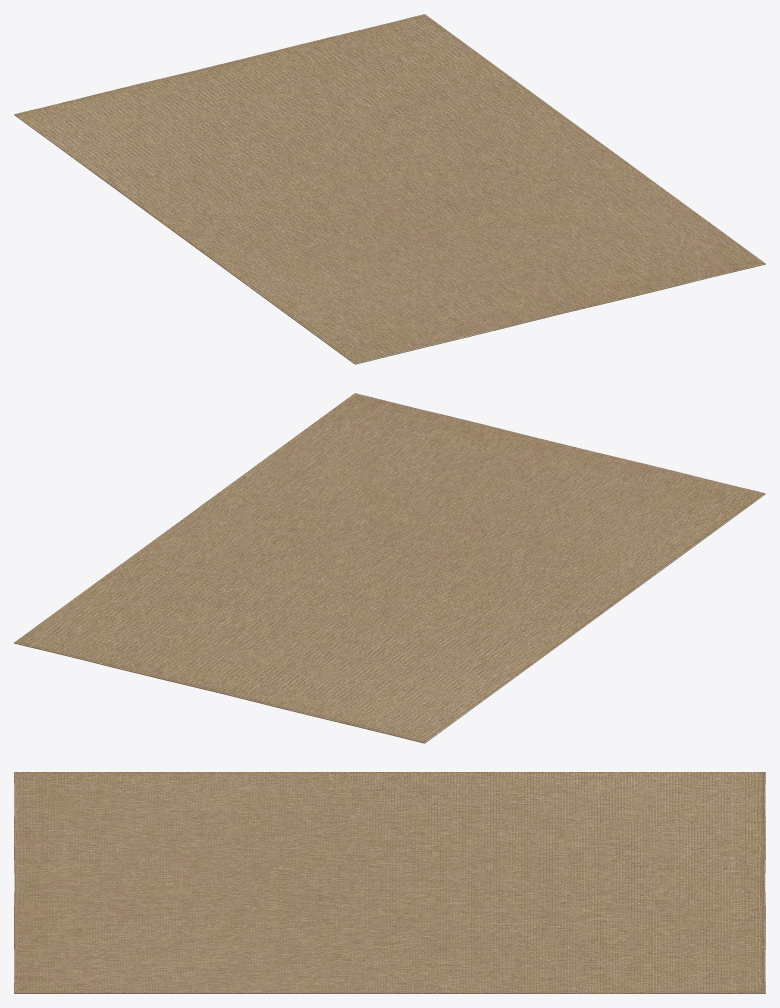
3 views of the same model, one above another, from view 1: azimuth 30°, elevation 25°; view 2: azimuth 150°, elevation 25°; view 3: azimuth 270°, elevation 25° (orthographic). The views are drawn at different scales.
Visible parts, largest first — view 1: 001; view 2: 001; view 3: 001.
Part boxes in pixels (x1,y1,x2,y2): 001: [14, 14, 765, 364]; 001: [14, 393, 765, 743]; 001: [14, 772, 765, 993].
Bounding box in the file's own units: 1.6 × 0.00362 × 2.3.
3 materials, 3 textured.
